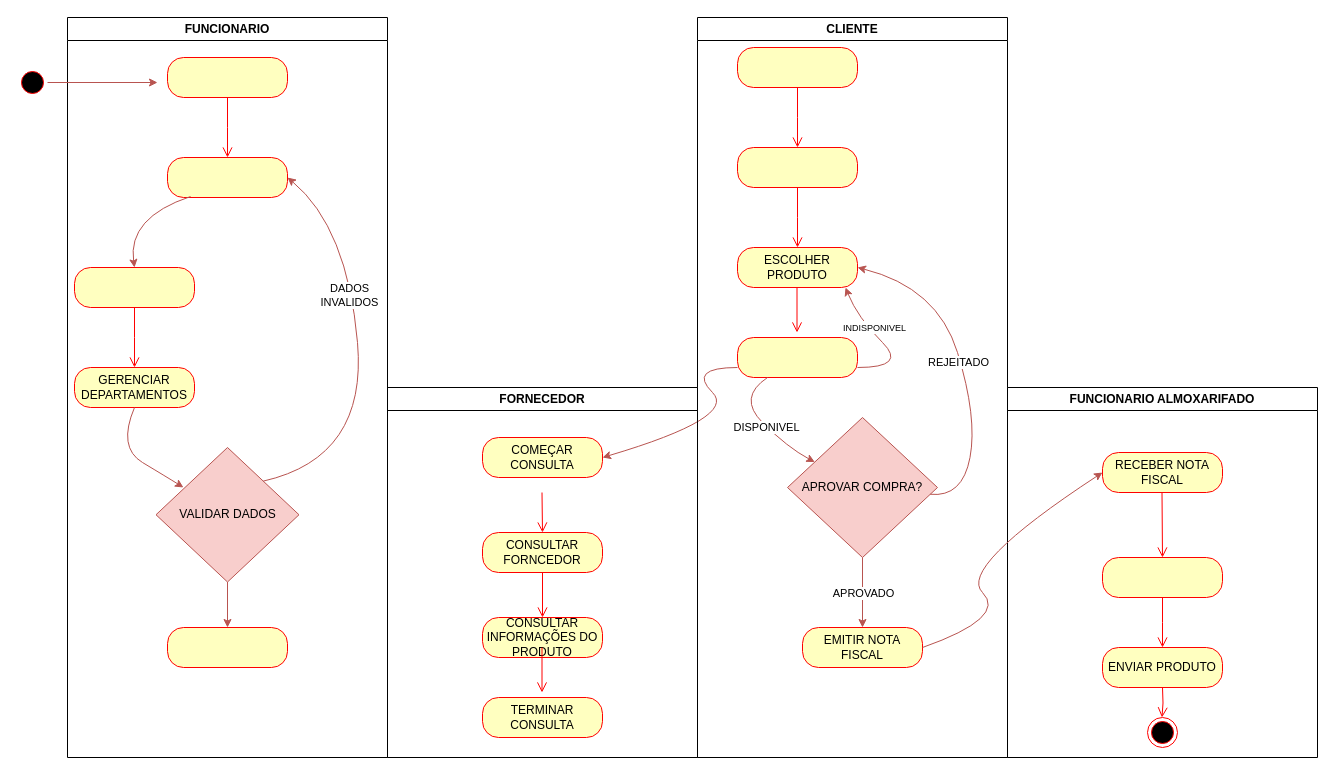
Image size: 1335x775. Some labels were removed from this diagram. Each missing label, with the centre of its shape:
"CADASTRAR CLIENTE" goes at point (797, 67).
"CADASTRAR ENTIDADES" goes at point (227, 177).
"COMEÇAR CADASTROS" goes at point (227, 77).
"COMPRAR PRODUTO" goes at point (797, 167).
"GERENCIAR CARGOS" goes at point (134, 287).
"IMPRIMIR NOTA FISCAL" goes at point (1162, 577).
"TERMINAR CADASTROS" goes at point (227, 647).
"VERIFICAR ESTOQUE" goes at point (797, 357).
